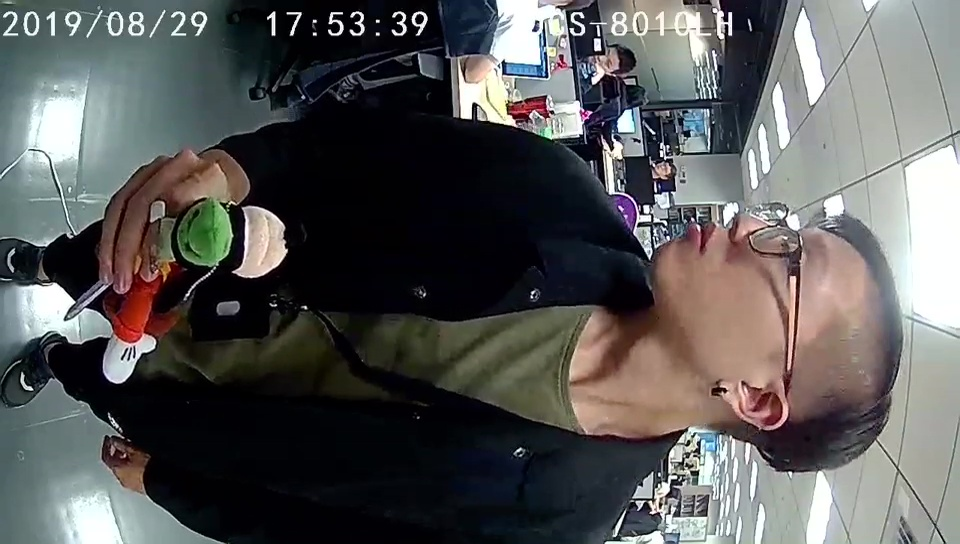goofy: (101, 192, 290, 387)
